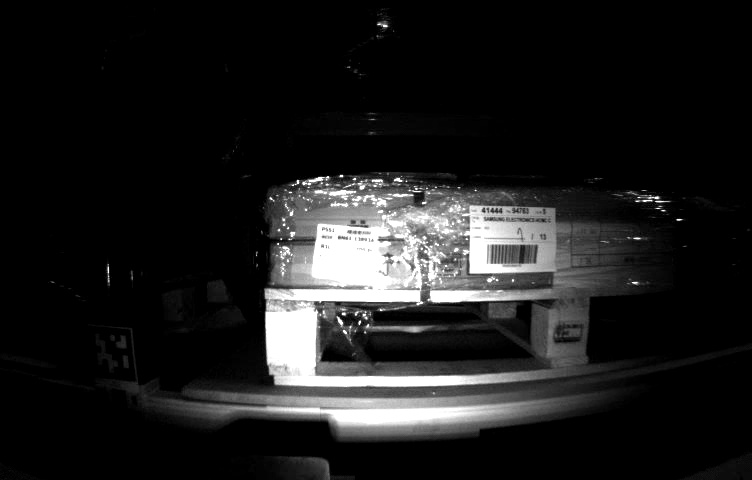True Barcode: (311, 217, 385, 285)
